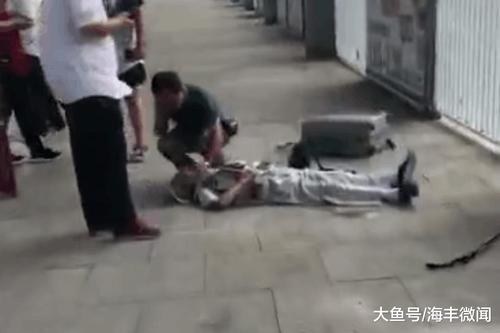fall: (165, 146, 423, 217)
